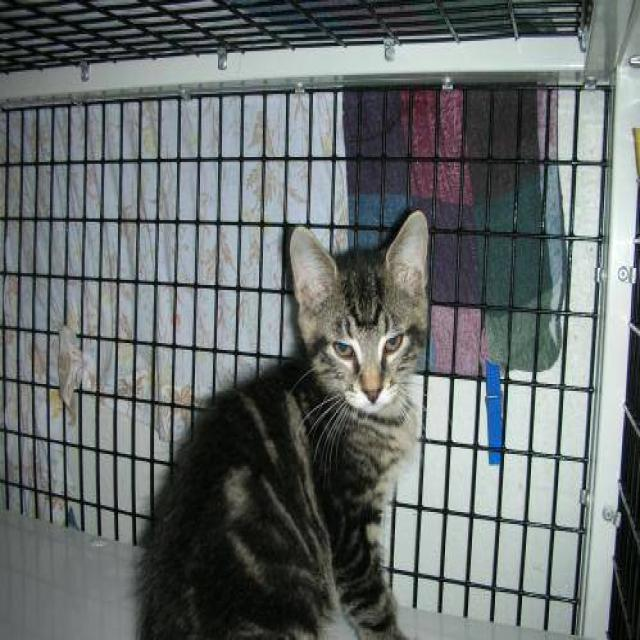cat: (131, 206, 431, 638)
